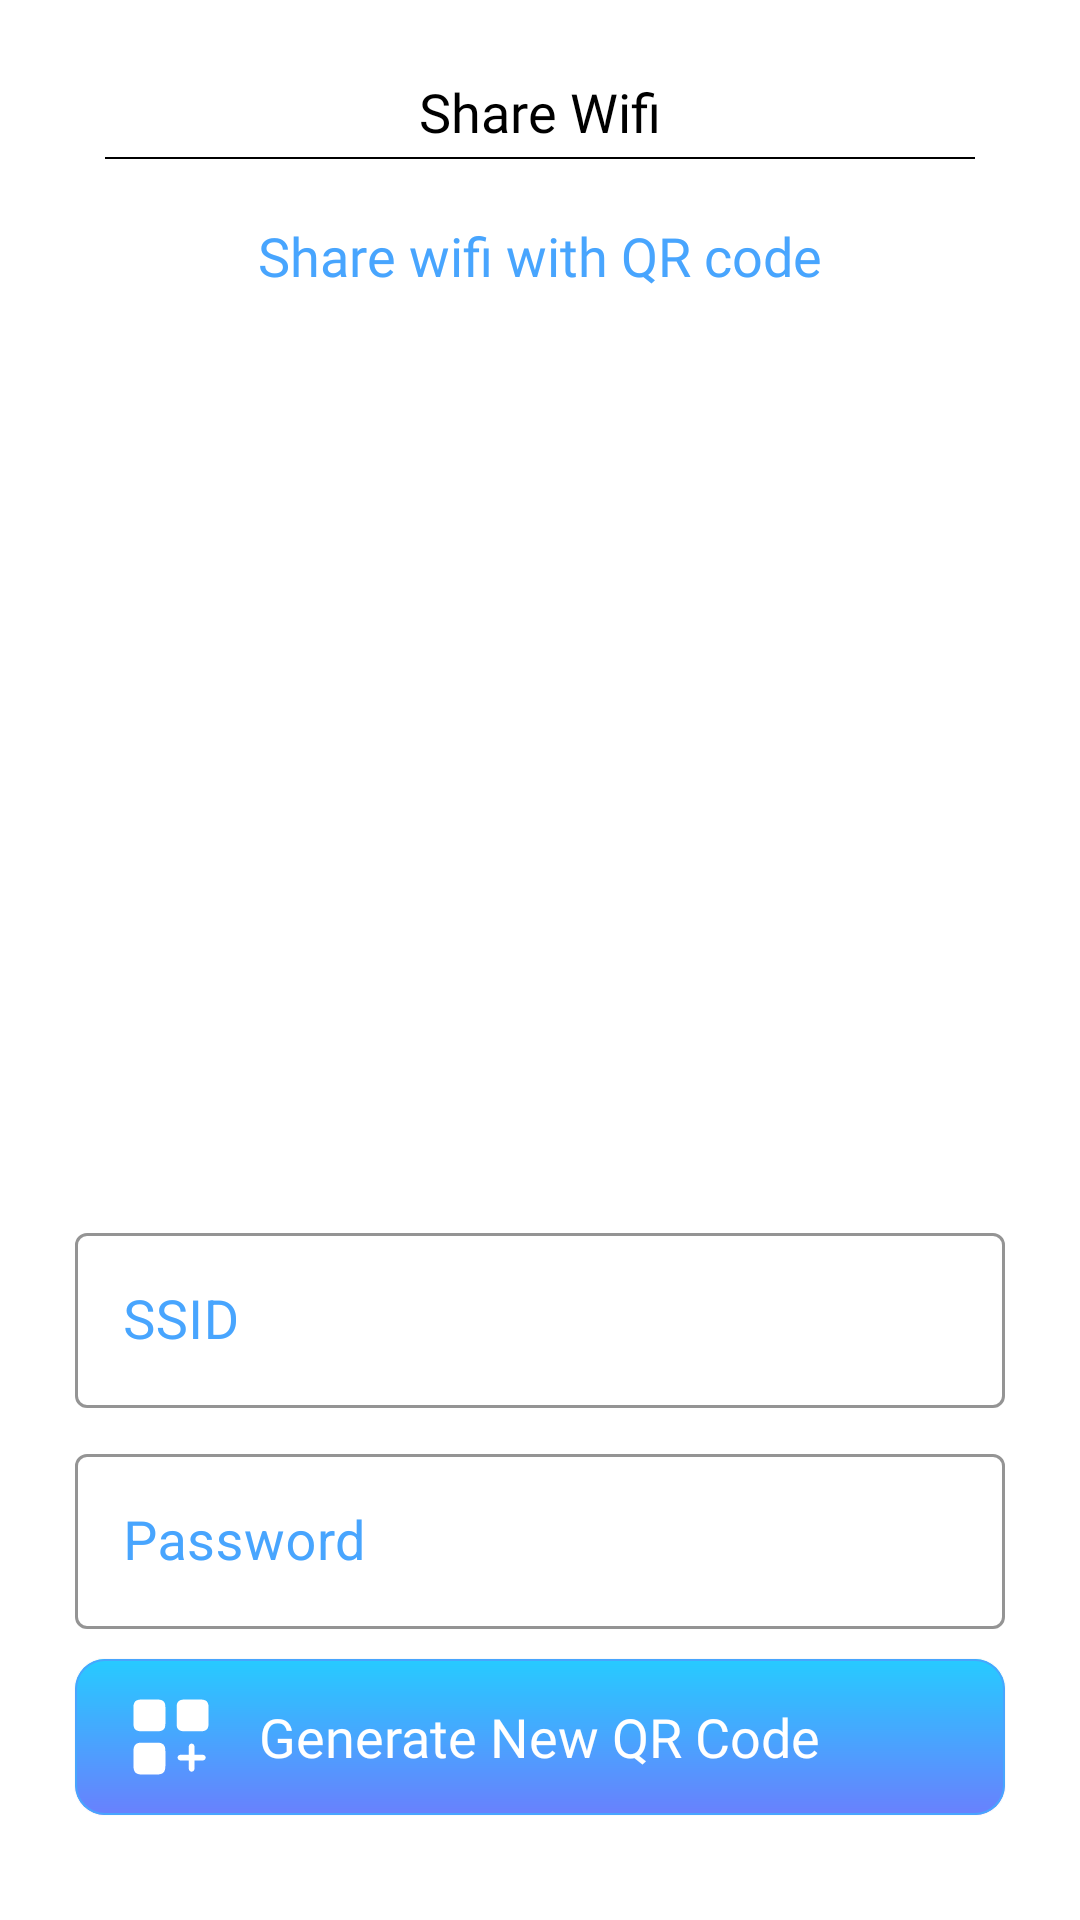

Named icons in this screenshot (1080px x 1920px) and their centers, [x,y]:
element plus: [171,1737]
